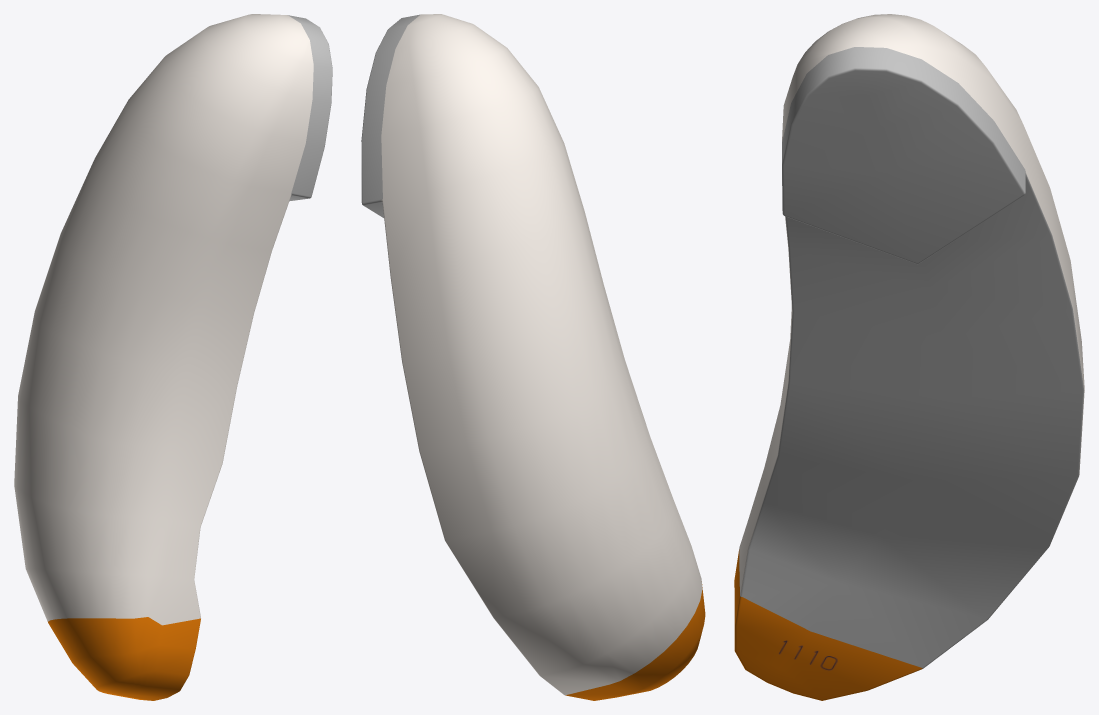
The model's file is r_arm.gltf.
The picture shows the model from 3 angles, left to right: view 1: azimuth 30°, elevation 25°; view 2: azimuth 150°, elevation 25°; view 3: azimuth 270°, elevation 25°; orthographic projection. The views are drawn at different scales.
Visible parts, largest first — view 1: Sphere017; view 2: Sphere017; view 3: Sphere017.
Boxes of the visible parts, left/top/right/bottom form: Sphere017: left=14, top=14, right=332, bottom=700; Sphere017: left=361, top=14, right=705, bottom=700; Sphere017: left=734, top=14, right=1084, bottom=700.
Bounding box in the file's own units: 5.53 × 12.18 × 5.08.
3 materials, 3 textured.
